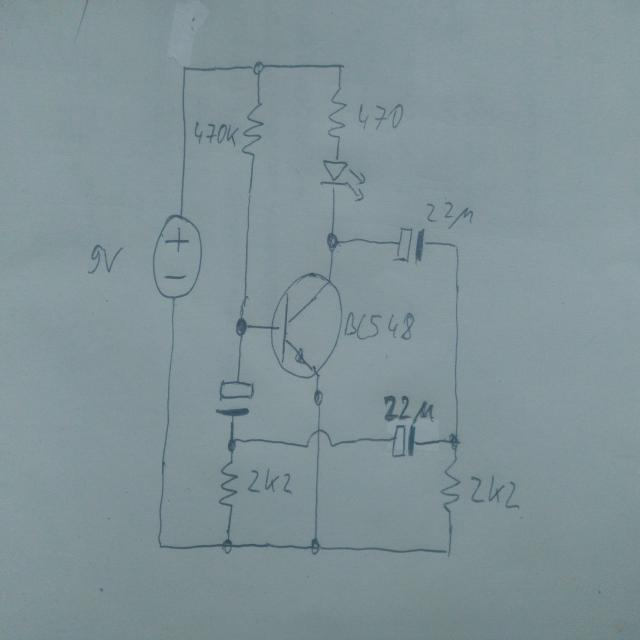capacitor: (214, 378, 256, 420), (392, 224, 426, 266), (389, 423, 417, 459)
crossover: (304, 426, 336, 454)
diode: (319, 156, 366, 204)
junction: (326, 230, 340, 252), (234, 316, 248, 337), (312, 387, 326, 408), (308, 536, 322, 557), (447, 432, 462, 451), (221, 536, 234, 556), (225, 434, 238, 453), (442, 544, 456, 560), (252, 60, 264, 76), (154, 538, 167, 550), (179, 63, 190, 75), (336, 60, 345, 72), (452, 241, 460, 252)
resistor: (239, 99, 267, 165), (326, 80, 349, 147), (440, 454, 462, 519), (218, 453, 239, 513)
source: (148, 210, 204, 302)
text: (343, 311, 415, 343), (469, 475, 521, 510), (424, 200, 473, 231), (84, 241, 124, 277), (382, 395, 435, 422), (358, 102, 405, 132), (192, 120, 240, 148), (246, 467, 294, 495)
transistor: (268, 271, 346, 382)
